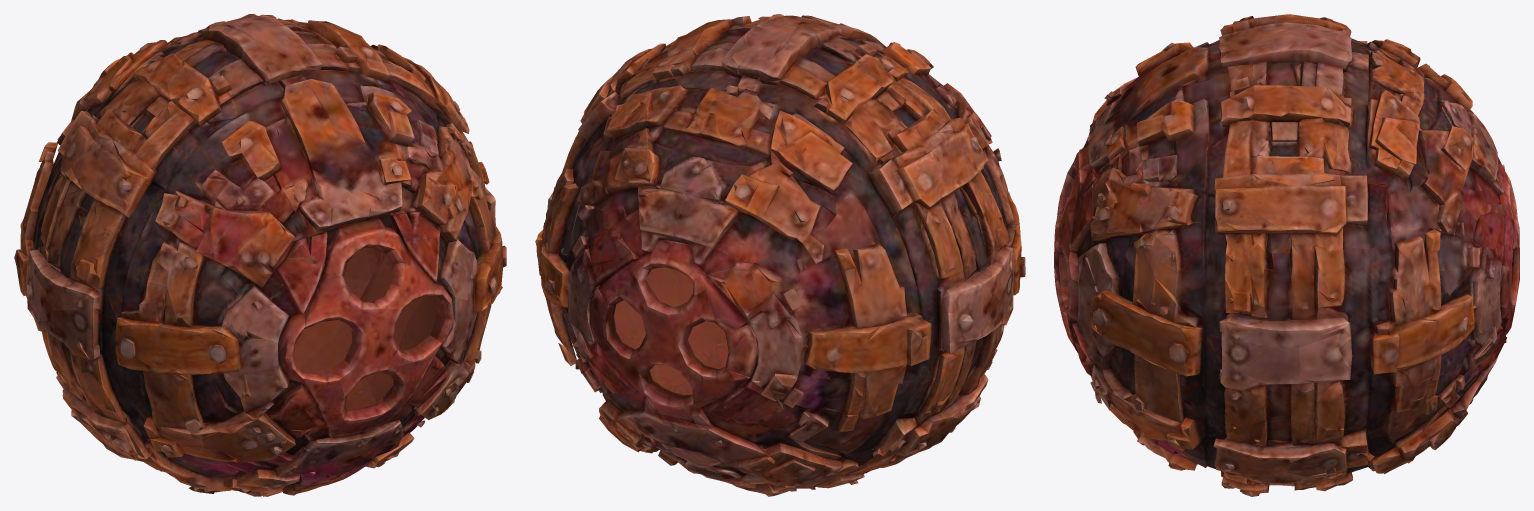
File: bowling-ball.glb
3 renders of one model, left to right at view 1: azimuth 30°, elevation 25°; view 2: azimuth 150°, elevation 25°; view 3: azimuth 270°, elevation 25°, orthographic.
Parts seen in each view (by area): view 1: Mesh_0; view 2: Mesh_0; view 3: Mesh_0.
Boxes of the visible parts, <box> form: Mesh_0: <box>14,14,506,496</box>; Mesh_0: <box>535,14,1025,496</box>; Mesh_0: <box>1054,14,1519,496</box>.
Size of the model in its own units: 1.9 by 1.9 by 1.81.
Materials: 1 (1 with a texture image).
